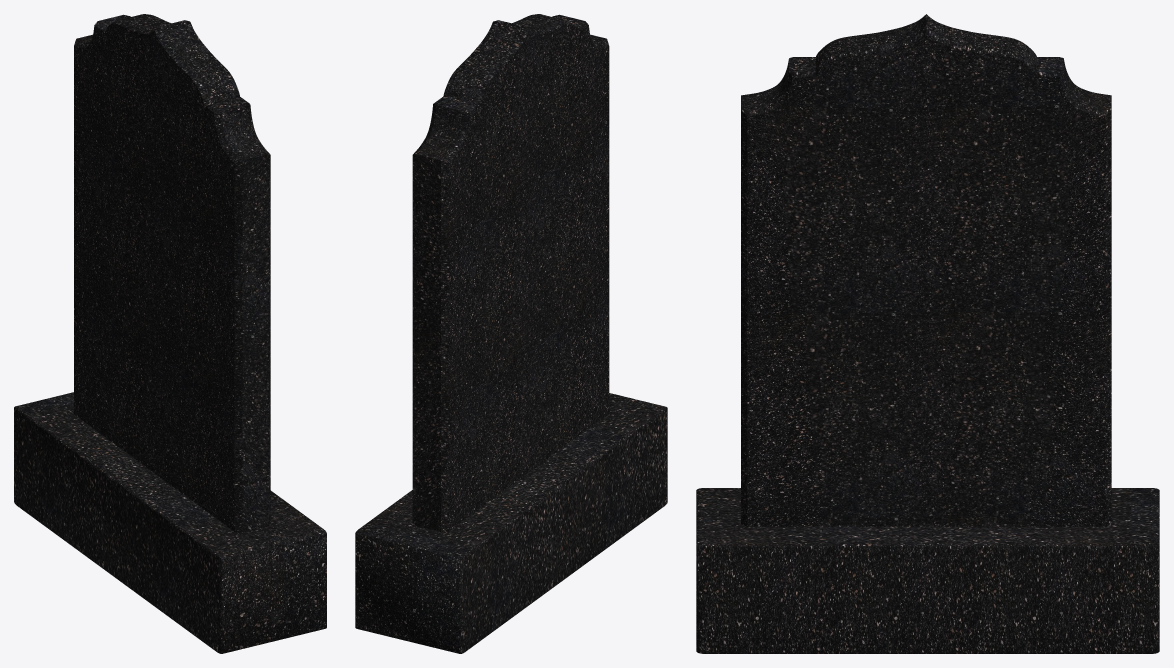
Rendered from Памятник вола Габро [granite_u_u] (60).glb.
3 renders of one model, left to right at view 1: azimuth 30°, elevation 25°; view 2: azimuth 150°, elevation 25°; view 3: azimuth 270°, elevation 25°, orthographic. The views are drawn at different scales.
Visible parts, largest first — view 1: Cube.050; view 2: Cube.050; view 3: Cube.050.
Boxes of the visible parts, bbox=[...] form: Cube.050: bbox=[14, 14, 326, 653]; Cube.050: bbox=[355, 14, 667, 653]; Cube.050: bbox=[696, 14, 1159, 653].
Bounding box in the file's own units: 0.15 × 0.7208 × 0.5.
Materials: 1 (1 with a texture image).
